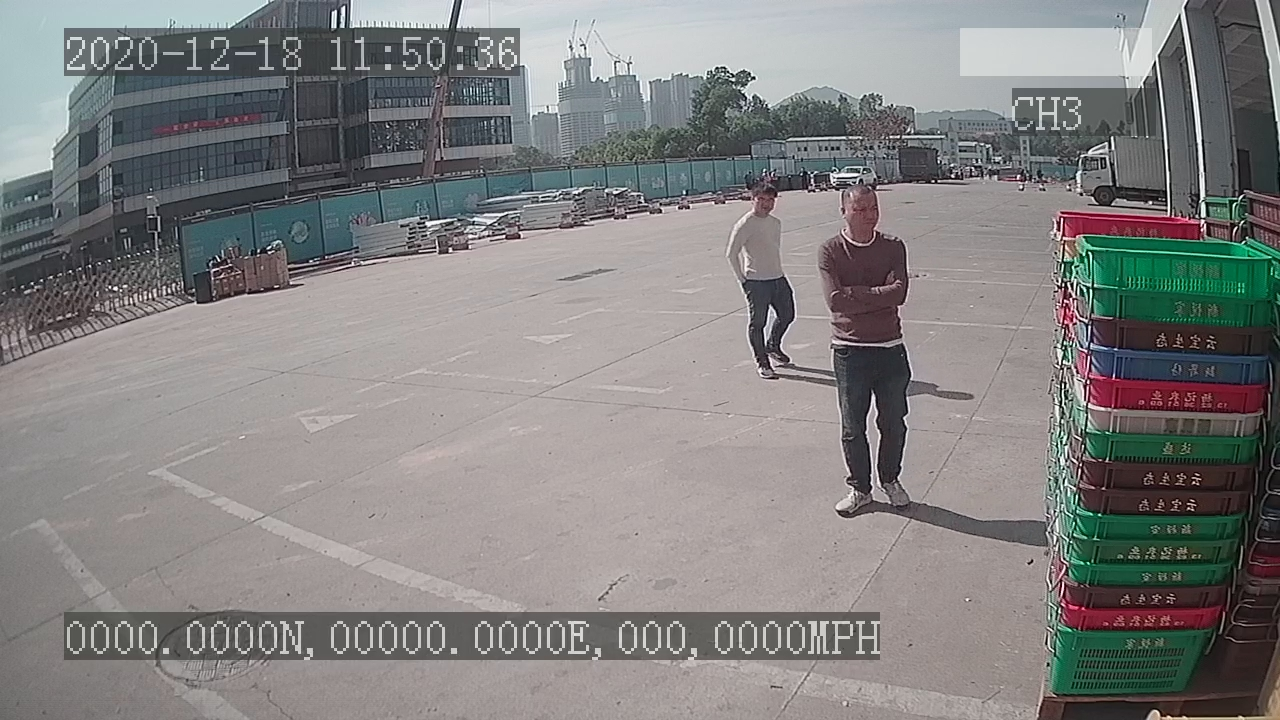person: (806, 174, 920, 519), (718, 177, 801, 379)
